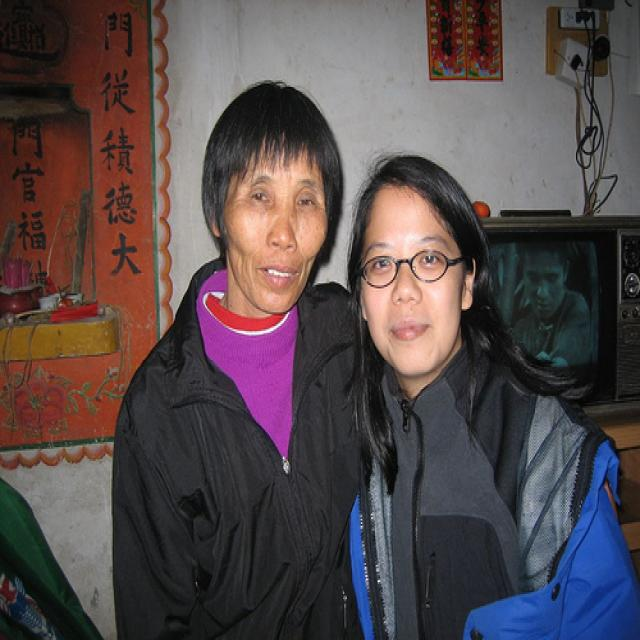person: (348, 153, 640, 639), (113, 80, 364, 640)
tvmonitor: (473, 216, 640, 409)
